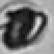correct: (0, 4, 49, 51)
